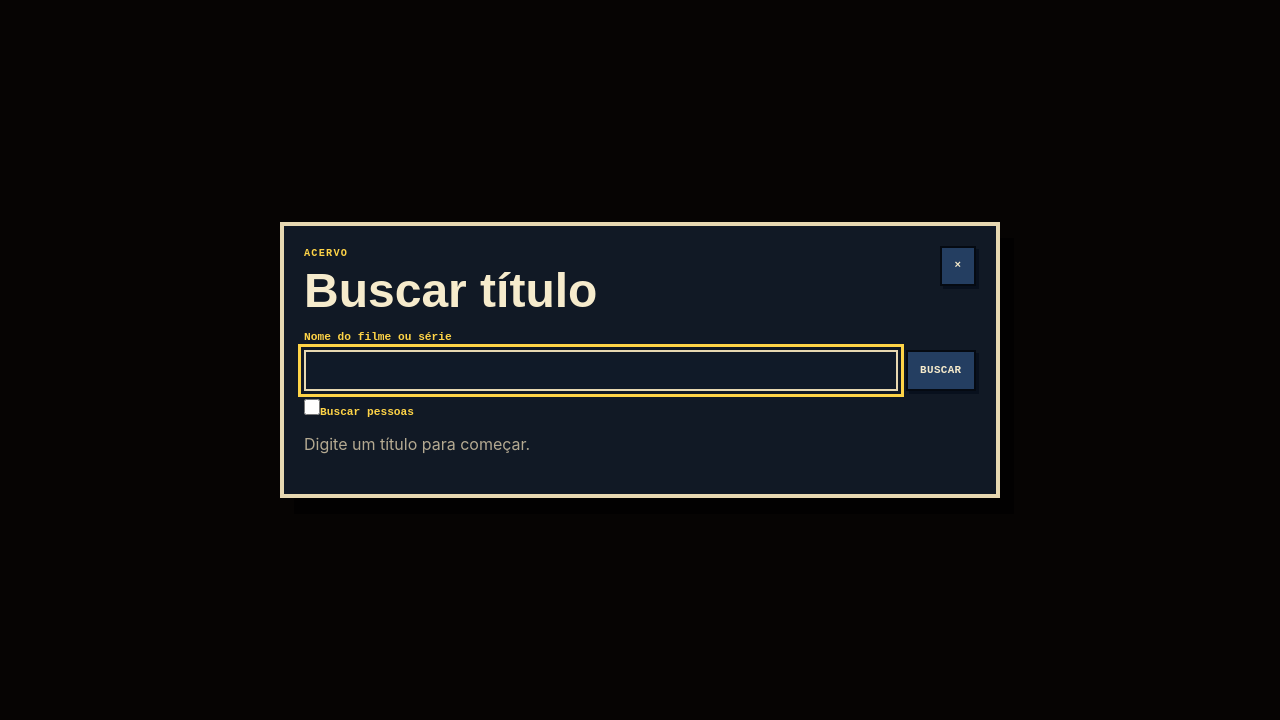
person search › keeps the title search unchanged when the switch is off
Type "matrix" into the search field at (601, 370), box [304,350,898,391]
Then press Enter
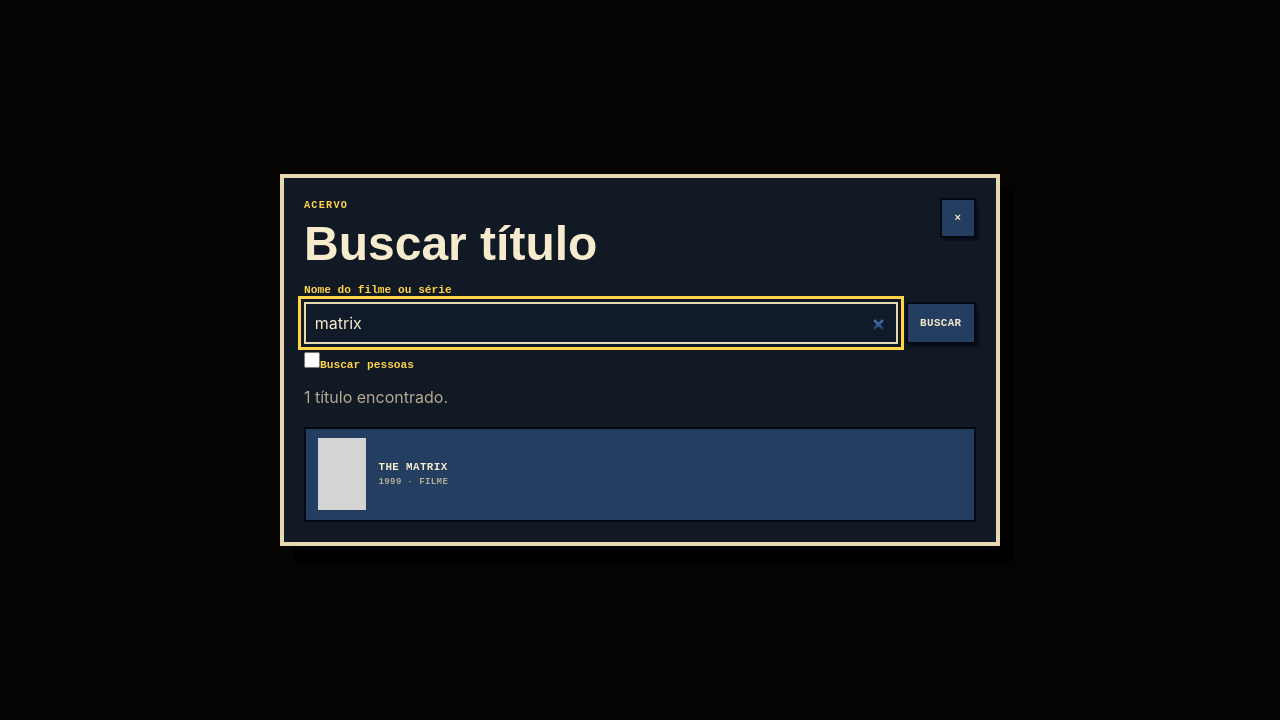
Now the button with aria-label "Inspecionar The Matrix" is shown, box [304,427,976,522]
Now the message reads "1 título encontrado.", box [304,387,448,407]
